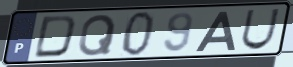0: (119, 10, 157, 57)
9: (161, 12, 196, 54)
A: (193, 10, 237, 53)
D: (31, 14, 79, 60)
Q: (76, 12, 118, 58)
U: (239, 7, 282, 51)
